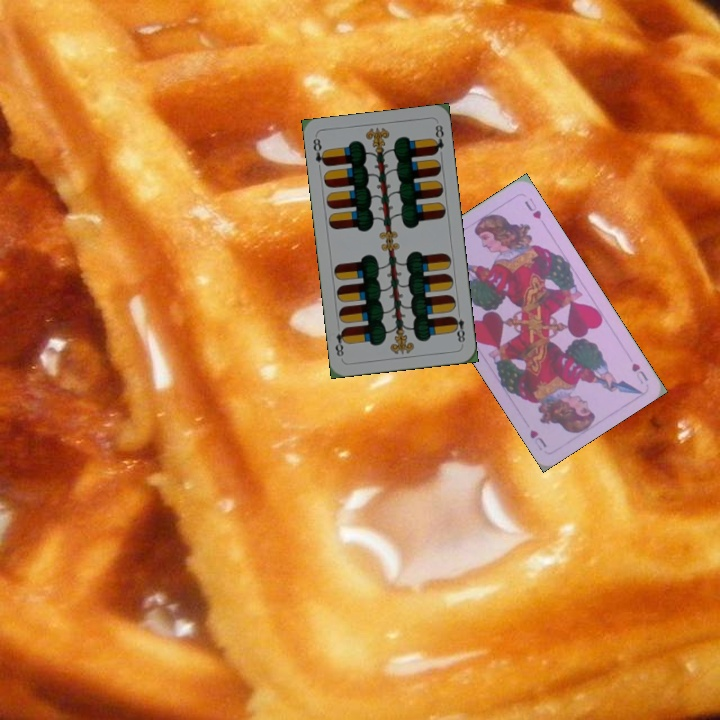E8: (309, 134, 330, 169), (449, 306, 467, 345)
HU: (627, 359, 651, 387)
